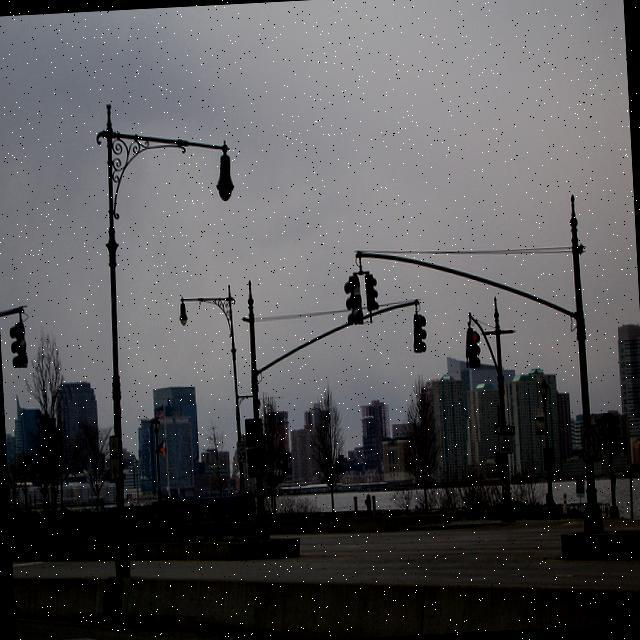fire_hydrant: (364, 494, 371, 516)
